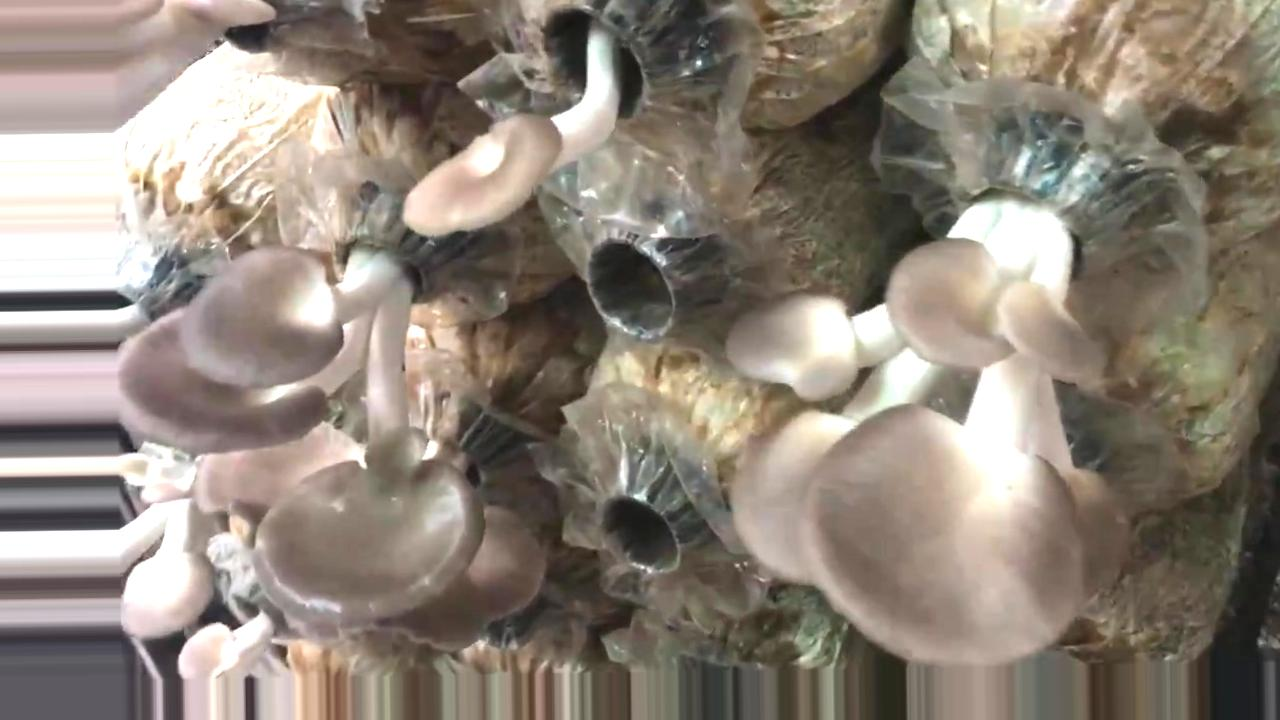nam: (730, 128, 1143, 664), (123, 212, 482, 641), (410, 1, 684, 231), (406, 503, 545, 656), (121, 450, 214, 639), (195, 421, 367, 514), (178, 585, 291, 682)
